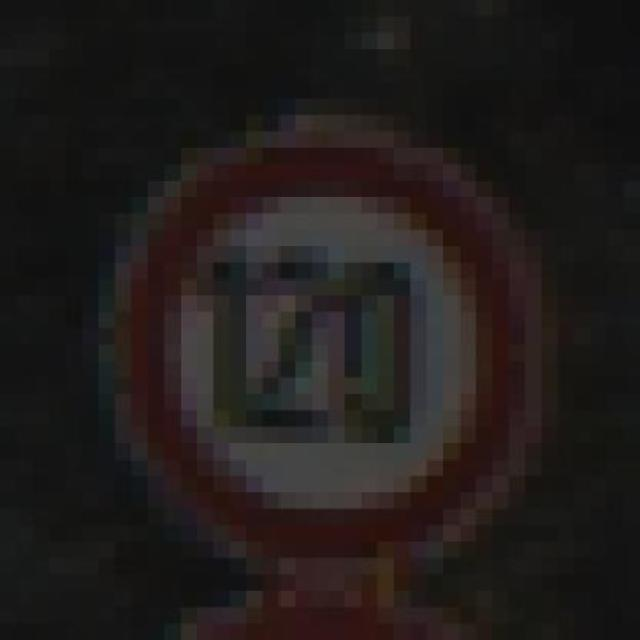forb_speed_over_120: (122, 138, 526, 562)
